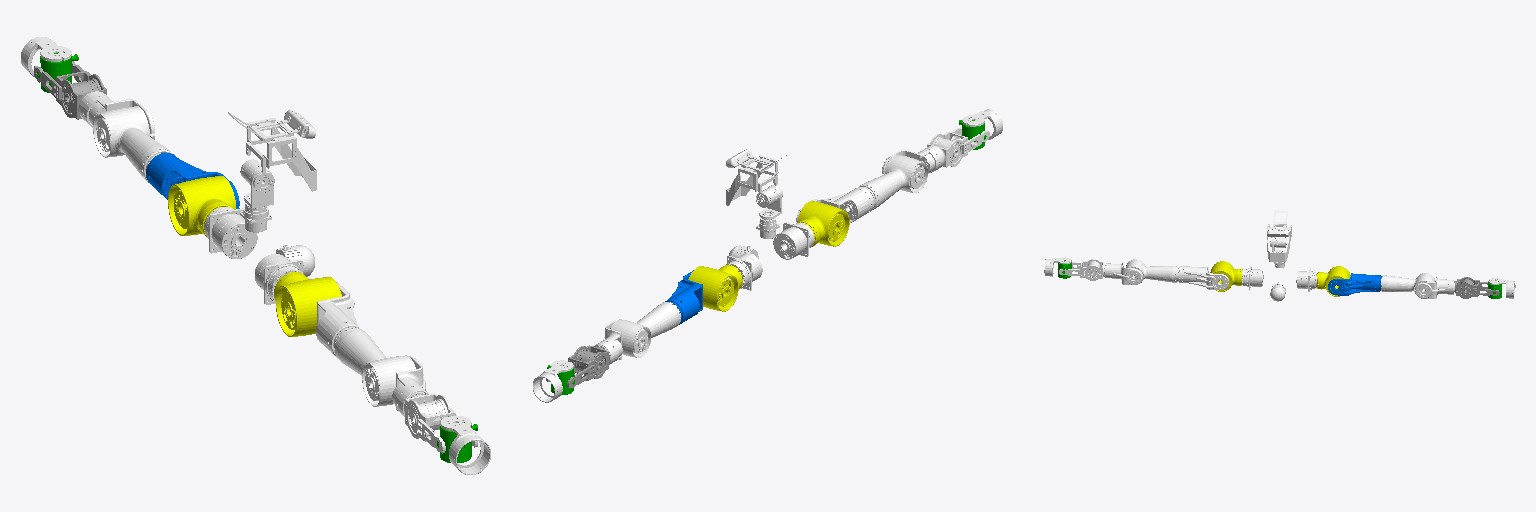
--- What the picture shows (computed from the rendered views, not written in the file) ---
3 views of the same robot in one strip: view 1: azimuth 30°, elevation 25°; view 2: azimuth 150°, elevation 25°; view 3: azimuth 270°, elevation 25° (orthographic).
Model miracle with 27 links and 26 joints (20 revolute, 6 fixed), rooted at base_link, posed all joints at 0.
Visible links, largest first — view 1: right_arm_link3, head_link2, left_arm_link3, right_arm_link1, left_arm_link1, left_arm_mount_link, right_arm_link5, left_arm_link5, left_arm_link2, right_arm_link2, right_arm_link7, right_arm_mount_link (+8 smaller); view 2: left_arm_link3, right_arm_link3, left_arm_link1, right_arm_link1, head_link2, left_arm_link5, right_arm_link5, right_arm_mount_link, right_arm_link2, left_arm_link2, left_arm_link7, left_arm_mount_link (+4 smaller); view 3: left_arm_link2, right_arm_link2, right_arm_link3, left_arm_link3, head_link2, right_arm_link5, left_arm_link5, left_arm_link4, right_arm_link4.
Link boxes in pixels (<box>): right_arm_link3: <box>334,327,415,406</box>; head_link2: <box>228,110,316,192</box>; left_arm_link3: <box>93,106,172,182</box>; right_arm_link1: <box>274,272,341,336</box>; left_arm_link1: <box>168,176,235,236</box>; left_arm_mount_link: <box>204,207,257,258</box>; right_arm_link5: <box>405,393,477,453</box>; left_arm_link5: <box>34,61,106,119</box>; left_arm_link2: <box>146,153,239,208</box>; right_arm_link2: <box>316,282,360,355</box>; right_arm_link7: <box>440,416,490,474</box>; right_arm_mount_link: <box>255,254,303,304</box>; left_arm_link3: <box>610,302,680,357</box>; right_arm_link3: <box>859,155,927,209</box>; left_arm_link1: <box>688,265,742,311</box>; right_arm_link1: <box>797,201,849,246</box>; head_link2: <box>726,149,787,205</box>; left_arm_link5: <box>546,345,608,388</box>; right_arm_link5: <box>927,126,989,167</box>; right_arm_mount_link: <box>773,222,814,259</box>; right_arm_link2: <box>796,187,874,222</box>; left_arm_link2: <box>665,270,702,324</box>; left_arm_link7: <box>533,360,573,402</box>; left_arm_mount_link: <box>726,253,762,290</box>; left_arm_link2: <box>1328,273,1381,295</box>; right_arm_link2: <box>1178,266,1228,289</box>; right_arm_link3: <box>1126,259,1178,282</box>; left_arm_link3: <box>1381,273,1435,293</box>; head_link2: <box>1267,210,1291,261</box>; right_arm_link5: <box>1059,259,1104,280</box>; left_arm_link5: <box>1455,277,1499,298</box>; left_arm_link4: <box>1415,277,1454,298</box>; right_arm_link4: <box>1104,262,1142,284</box>.
Bounding box of the posed robot: 0.2592 × 1.89 × 0.3395 m (x, y, z).
Meshes: 27 distinct files referenced, 20 mesh visuals loaded (20 binary STL); not drawn: 7 (reference not matched to a file when rendering).

robot.urdf — miracle:
<?xml version="1.0" encoding="utf-8"?>
<!-- This URDF was automatically created by SolidWorks to URDF Exporter! Originally created by Stephen Brawner ([email redacted]) 
     Commit Version: 1.6.0-4-g7f85cfe  Build Version: 1.6.7995.38578
     For more information, please see http://wiki.ros.org/sw_urdf_exporter -->
<robot
  name="miracle">
  <link
    name="base_link">
    <inertial>
      <origin
        xyz="0.0606 0.017021 0.12785"
        rpy="0 0 0" />
      <mass
        value="17.276" />
      <inertia
        ixx="0.040792"
        ixy="4.1423E-05"
        ixz="8.1011E-05"
        iyy="0.041082"
        iyz="-0.00028759"
        izz="0.038316" />
    </inertial>
    <visual>
      <origin
        xyz="0 0 0"
        rpy="0 0 0" />
      <geometry>
        <mesh
          filename="package://miracle/meshes/base_link.STL" />
      </geometry>
      <material
        name="">
        <color
          rgba="0.59216 0.66667 0.68235 1" />
      </material>
    </visual>
    <collision>
      <origin
        xyz="0 0 0"
        rpy="0 0 0" />
      <geometry>
        <mesh
          filename="package://miracle/meshes/base_link.STL" />
      </geometry>
    </collision>
  </link>
  <link
    name="leg_link1">
    <inertial>
      <origin
        xyz="0.373410461941086 0.00317203238155983 0.00872400877544002"
        rpy="0 0 0" />
      <mass
        value="22.0247976721526" />
      <inertia
        ixx="0.0754255607395009"
        ixy="3.92959637740102E-05"
        ixz="-0.000155769379066117"
        iyy="0.319317431793346"
        iyz="-0.000625399106227243"
        izz="0.315210283487775" />
    </inertial>
    <visual>
      <origin
        xyz="0 0 0"
        rpy="0 0 0" />
      <geometry>
        <mesh
          filename="package://miracle/meshes/leg_link1.STL" />
      </geometry>
      <material
        name="">
        <color
          rgba="0.698039215686274 0.698039215686274 0.698039215686274 1" />
      </material>
    </visual>
    <collision>
      <origin
        xyz="0 0 0"
        rpy="0 0 0" />
      <geometry>
        <mesh
          filename="package://miracle/meshes/leg_link1.STL" />
      </geometry>
    </collision>
  </link>
  <joint
    name="leg_joint1"
    type="revolute">
    <origin
      xyz="0.067499 0 0.136"
      rpy="1.5708 -0.68983 3.1416" />
    <parent
      link="base_link" />
    <child
      link="leg_link1" />
    <axis
      xyz="0 0 1" />
    <limit
      lower="-1.57"
      upper="1.57"
      effort="0"
      velocity="0" />
  </joint>
  <link
    name="leg_link2">
    <inertial>
      <origin
        xyz="0.30543883910427 0.000587194720700124 -0.0340371176015127"
        rpy="0 0 0" />
      <mass
        value="8.95607382191874" />
      <inertia
        ixx="0.0117400044567802"
        ixy="-0.000628362265764557"
        ixz="6.42351126552253E-06"
        iyy="0.102142519439841"
        iyz="1.29380270111411E-06"
        izz="0.109117913938011" />
    </inertial>
    <visual>
      <origin
        xyz="0 0 0"
        rpy="0 0 0" />
      <geometry>
        <mesh
          filename="package://miracle/meshes/leg_link2.STL" />
      </geometry>
      <material
        name="">
        <color
          rgba="0.698039215686274 0.698039215686274 0.698039215686274 1" />
      </material>
    </visual>
    <collision>
      <origin
        xyz="0 0 0"
        rpy="0 0 0" />
      <geometry>
        <mesh
          filename="package://miracle/meshes/leg_link2.STL" />
      </geometry>
    </collision>
  </link>
  <joint
    name="leg_joint2"
    type="revolute">
    <origin
      xyz="0.45 0 0"
      rpy="-3.1416 0 1.9784" />
    <parent
      link="leg_link1" />
    <child
      link="leg_link2" />
    <axis
      xyz="0 0 1" />
    <limit
      lower="-1.57"
      upper="1.57"
      effort="0"
      velocity="0" />
  </joint>
  <link
    name="leg_link3">
    <inertial>
      <origin
        xyz="0.000233497639811953 -0.0317006200287735 -0.000226107345642754"
        rpy="0 0 0" />
      <mass
        value="2.74166971276735" />
      <inertia
        ixx="0.0131132101979025"
        ixy="2.11295636664785E-05"
        ixz="3.48307228512514E-08"
        iyy="0.0116005108146718"
        iyz="0.000187364414561459"
        izz="0.0129055936481148" />
    </inertial>
    <visual>
      <origin
        xyz="0 0 0"
        rpy="0 0 0" />
      <geometry>
        <mesh
          filename="package://miracle/meshes/leg_link3.STL" />
      </geometry>
      <material
        name="">
        <color
          rgba="0.698039215686274 0.698039215686274 0.698039215686274 1" />
      </material>
    </visual>
    <collision>
      <origin
        xyz="0 0 0"
        rpy="0 0 0" />
      <geometry>
        <mesh
          filename="package://miracle/meshes/leg_link3.STL" />
      </geometry>
    </collision>
  </link>
  <joint
    name="leg_joint3"
    type="revolute">
    <origin
      xyz="0.39 0 0"
      rpy="3.1416 0 -0.4734" />
    <parent
      link="leg_link2" />
    <child
      link="leg_link3" />
    <axis
      xyz="0 0 1" />
    <limit
      lower="-1.57"
      upper="1.57"
      effort="0"
      velocity="0" />
  </joint>
  <link
    name="leg_link4">
    <inertial>
      <origin
        xyz="-0.015153 -5.8636E-05 0.18105"
        rpy="0 0 0" />
      <mass
        value="1.4044" />
      <inertia
        ixx="0.0058458"
        ixy="6.1445E-06"
        ixz="-5.6825E-06"
        iyy="0.0045625"
        iyz="4.2629E-06"
        izz="0.0026933" />
    </inertial>
    <visual>
      <origin
        xyz="0 0 0"
        rpy="0 0 0" />
      <geometry>
        <mesh
          filename="package://miracle/meshes/leg_link4.STL" />
      </geometry>
      <material
        name="">
        <color
          rgba="1 1 1 1" />
      </material>
    </visual>
    <collision>
      <origin
        xyz="0 0 0"
        rpy="0 0 0" />
      <geometry>
        <mesh
          filename="package://miracle/meshes/leg_link4.STL" />
      </geometry>
    </collision>
  </link>
  <joint
    name="leg_joint4"
    type="revolute">
    <origin
      xyz="0 -0.1395 0"
      rpy="1.5708 0.10031 0" />
    <parent
      link="leg_link3" />
    <child
      link="leg_link4" />
    <axis
      xyz="0 0 1" />
    <limit
      lower="-1.57"
      upper="1.57"
      effort="0"
      velocity="0" />
  </joint>
  <link
    name="lidra2_link">
    <inertial>
      <origin
        xyz="-0.00019018 6.2925E-07 0.027552"
        rpy="0 0 0" />
      <mass
        value="0.15063" />
      <inertia
        ixx="4.5255E-05"
        ixy="-2.1506E-10"
        ixz="1.6912E-08"
        iyy="4.5069E-05"
        iyz="-1.7116E-09"
        izz="6.1719E-05" />
    </inertial>
    <visual>
      <origin
        xyz="0 0 0"
        rpy="0 0 0" />
      <geometry>
        <mesh
          filename="package://miracle/meshes/lidra2_link.STL" />
      </geometry>
      <material
        name="">
        <color
          rgba="1 1 1 1" />
      </material>
    </visual>
    <collision>
      <origin
        xyz="0 0 0"
        rpy="0 0 0" />
      <geometry>
        <mesh
          filename="package://miracle/meshes/lidra2_link.STL" />
      </geometry>
    </collision>
  </link>
  <joint
    name="lidra2_joint"
    type="fixed">
    <origin
      xyz="0.0501 0 0.246"
      rpy="1.5708 1.5645 1.5708" />
    <parent
      link="leg_link4" />
    <child
      link="lidra2_link" />
    <axis
      xyz="0 0 0" />
  </joint>
  <link
    name="head_mount_link">
    <inertial>
      <origin
        xyz="1.738E-05 3.1615E-06 -0.0089392"
        rpy="0 0 0" />
      <mass
        value="0.0067056" />
      <inertia
        ixx="1.8089E-06"
        ixy="-2.0323E-13"
        ixz="1.972E-13"
        iyy="1.8089E-06"
        iyz="2.3126E-13"
        izz="3.3607E-06" />
    </inertial>
    <visual>
      <origin
        xyz="0 0 0"
        rpy="0 0 0" />
      <geometry>
        <mesh
          filename="package://miracle/meshes/head_mount_link.STL" />
      </geometry>
      <material
        name="">
        <color
          rgba="1 1 1 1" />
      </material>
    </visual>
    <collision>
      <origin
        xyz="0 0 0"
        rpy="0 0 0" />
      <geometry>
        <mesh
          filename="package://miracle/meshes/head_mount_link.STL" />
      </geometry>
    </collision>
  </link>
  <joint
    name="head_mount_joint"
    type="fixed">
    <origin
      xyz="0 0 0.366"
      rpy="0 0 0" />
    <parent
      link="leg_link4" />
    <child
      link="head_mount_link" />
    <axis
      xyz="0 0 0" />
  </joint>
  <link
    name="head_link1">
    <inertial>
      <origin
        xyz="-1.21451846257781E-05 -0.0183691160814371 0.0139880463062609"
        rpy="0 0 0" />
      <mass
        value="0.0179334054057747" />
      <inertia
        ixx="8.68704551396729E-06"
        ixy="2.32867411072203E-13"
        ixz="-9.8700049319966E-14"
        iyy="8.27654965608288E-06"
        iyz="-2.04020319007512E-06"
        izz="6.42008283919176E-06" />
    </inertial>
    <visual>
      <origin
        xyz="0 0 0"
        rpy="0 0 0" />
      <geometry>
        <mesh
          filename="package://miracle/meshes/head_link1.STL" />
      </geometry>
      <material
        name="">
        <color
          rgba="1 1 1 1" />
      </material>
    </visual>
    <collision>
      <origin
        xyz="0 0 0"
        rpy="0 0 0" />
      <geometry>
        <mesh
          filename="package://miracle/meshes/head_link1.STL" />
      </geometry>
    </collision>
  </link>
  <joint
    name="head_joint1"
    type="revolute">
    <origin
      xyz="0 0 0.02"
      rpy="0 0 0" />
    <parent
      link="head_mount_link" />
    <child
      link="head_link1" />
    <axis
      xyz="0 0 1" />
    <limit
      lower="-1.57"
      upper="1.57"
      effort="0"
      velocity="0" />
  </joint>
  <link
    name="head_link2">
    <inertial>
      <origin
        xyz="0.0844948741379612 -0.0804596463532488 0.0319526055216792"
        rpy="0 0 0" />
      <mass
        value="1.31159529288958" />
      <inertia
        ixx="0.000798469616246155"
        ixy="7.35786015458707E-06"
        ixz="-1.0306933130501E-05"
        iyy="0.000803801129309105"
        iyz="-4.7675771129424E-06"
        izz="0.000138174346221395" />
    </inertial>
    <visual>
      <origin
        xyz="0 0 0"
        rpy="0 0 0" />
      <geometry>
        <mesh
          filename="package://miracle/meshes/head_link2.STL" />
      </geometry>
      <material
        name="">
        <color
          rgba="1 1 1 1" />
      </material>
    </visual>
    <collision>
      <origin
        xyz="0 0 0"
        rpy="0 0 0" />
      <geometry>
        <mesh
          filename="package://miracle/meshes/head_link2.STL" />
      </geometry>
    </collision>
  </link>
  <joint
    name="head_joint2"
    type="revolute">
    <origin
      xyz="0 -0.031 0.048"
      rpy="-1.5708 0 0" />
    <parent
      link="head_link1" />
    <child
      link="head_link2" />
    <axis
      xyz="0 0 1" />
    <limit
      lower="-1.57"
      upper="1.57"
      effort="0"
      velocity="0" />
  </joint>
  <link
    name="left_arm_mount_link">
    <inertial>
      <origin
        xyz="-0.000103092898383172 -3.09936444287118E-08 -0.00775501666918563"
        rpy="0 0 0" />
      <mass
        value="0.0120043370449637" />
      <inertia
        ixx="9.35192695532425E-06"
        ixy="1.04035705710706E-13"
        ixz="1.98733290697677E-09"
        iyy="9.28412817387126E-06"
        iyz="-9.62614880749074E-13"
        izz="1.83975367599659E-05" />
    </inertial>
    <visual>
      <origin
        xyz="0 0 0"
        rpy="0 0 0" />
      <geometry>
        <mesh
          filename="package://miracle/meshes/left_arm_mount_link.STL" />
      </geometry>
      <material
        name="">
        <color
          rgba="1 1 1 1" />
      </material>
    </visual>
    <collision>
      <origin
        xyz="0 0 0"
        rpy="0 0 0" />
      <geometry>
        <mesh
          filename="package://miracle/meshes/left_arm_mount_link.STL" />
      </geometry>
    </collision>
  </link>
  <joint
    name="left_arm_mount_joint"
    type="fixed">
    <origin
      xyz="-0.00025544 0.1295 0.273"
      rpy="1.5708 0 -3.1416" />
    <parent
      link="leg_link4" />
    <child
      link="left_arm_mount_link" />
    <axis
      xyz="0 0 0" />
  </joint>
  <link
    name="left_arm_link1">
    <inertial>
      <origin
        xyz="-0.00451320668760635 -4.84220839980232E-07 0.068453732902452"
        rpy="0 0 0" />
      <mass
        value="0.164576053302054" />
      <inertia
        ixx="0.00035768230406796"
        ixy="-4.33378549379354E-10"
        ixz="-5.31763582039654E-06"
        iyy="0.000313384891000046"
        iyz="5.22511458440378E-10"
        izz="0.000263231919003301" />
    </inertial>
    <visual>
      <origin
        xyz="0 0 0"
        rpy="0 0 0" />
      <geometry>
        <mesh
          filename="package://miracle/meshes/left_arm_link1.STL" />
      </geometry>
      <material
        name="">
        <color
          rgba="0.968627450980392 1 0 1" />
      </material>
    </visual>
    <collision>
      <origin
        xyz="0 0 0"
        rpy="0 0 0" />
      <geometry>
        <mesh
          filename="package://miracle/meshes/left_arm_link1.STL" />
      </geometry>
    </collision>
  </link>
  <joint
    name="left_arm_joint1"
    type="revolute">
    <origin
      xyz="-0.00025544 0 0.0215"
      rpy="0 0 0" />
    <parent
      link="left_arm_mount_link" />
    <child
      link="left_arm_link1" />
    <axis
      xyz="0 0 1" />
    <limit
      lower="-1.57"
      upper="1.57"
      effort="0"
      velocity="0" />
  </joint>
  <link
    name="left_arm_link2">
    <inertial>
      <origin
        xyz="-1.32736194258243E-08 0.0729261615545976 -0.0242860265828597"
        rpy="0 0 0" />
      <mass
        value="0.153610763556113" />
      <inertia
        ixx="0.000523400101333386"
        ixy="9.63707927596802E-11"
        ixz="-8.88098525786212E-11"
        iyy="0.000181612212796772"
        iyz="-0.000152838418381354"
        izz="0.000482627255057858" />
    </inertial>
    <visual>
      <origin
        xyz="0 0 0"
        rpy="0 0 0" />
      <geometry>
        <mesh
          filename="package://miracle/meshes/left_arm_link2.STL" />
      </geometry>
      <material
        name="">
        <color
          rgba="0 0.501960784313725 1 1" />
      </material>
    </visual>
    <collision>
      <origin
        xyz="0 0 0"
        rpy="0 0 0" />
      <geometry>
        <mesh
          filename="package://miracle/meshes/left_arm_link2.STL" />
      </geometry>
    </collision>
  </link>
  <joint
    name="left_arm_joint2"
    type="revolute">
    <origin
      xyz="-0.051 0 0.083"
      rpy="1.5708 0.0087535 -1.5708" />
    <parent
      link="left_arm_link1" />
    <child
      link="left_arm_link2" />
    <axis
      xyz="0 0 1" />
    <limit
      lower="-1.57"
      upper="1.57"
      effort="0"
      velocity="0" />
  </joint>
  <link
    name="left_arm_link3">
    <inertial>
      <origin
        xyz="2.01632285201647E-07 0.00214120607233292 0.0947924947353457"
        rpy="0 0 0" />
      <mass
        value="0.186587301067739" />
      <inertia
        ixx="0.000773698879079249"
        ixy="-1.9261050013891E-10"
        ixz="5.7469629059933E-10"
        iyy="0.000790841800324136"
        iyz="2.77127491977947E-05"
        izz="0.000180064935294716" />
    </inertial>
    <visual>
      <origin
        xyz="0 0 0"
        rpy="0 0 0" />
      <geometry>
        <mesh
          filename="package://miracle/meshes/left_arm_link3.STL" />
      </geometry>
      <material
        name="">
        <color
          rgba="1 1 1 1" />
      </material>
    </visual>
    <collision>
      <origin
        xyz="0 0 0"
        rpy="0 0 0" />
      <geometry>
        <mesh
          filename="package://miracle/meshes/left_arm_link3.STL" />
      </geometry>
    </collision>
  </link>
  <joint
    name="left_arm_joint3"
    type="revolute">
    <origin
      xyz="0 0.1754 -0.051"
      rpy="1.5708 0 -3.1416" />
    <parent
      link="left_arm_link2" />
    <child
      link="left_arm_link3" />
    <axis
      xyz="0 0 1" />
    <limit
      lower="-1.57"
      upper="1.57"
      effort="0"
      velocity="0" />
  </joint>
  <link
    name="left_arm_link4">
    <inertial>
      <origin
        xyz="-3.59282905924019E-05 0.0462202717096162 -0.0211544021787333"
        rpy="0 0 0" />
      <mass
        value="0.0802828063968529" />
      <inertia
        ixx="0.00016287611612671"
        ixy="9.06993953713702E-08"
        ixz="-3.8108714701397E-08"
        iyy="7.56836891245293E-05"
        iyz="-5.27088065070728E-05"
        izz="0.000157942400170937" />
    </inertial>
    <visual>
      <origin
        xyz="0 0 0"
        rpy="0 0 0" />
      <geometry>
        <mesh
          filename="package://miracle/meshes/left_arm_link4.STL" />
      </geometry>
      <material
        name="">
        <color
          rgba="1 1 1 1" />
      </material>
    </visual>
    <collision>
      <origin
        xyz="0 0 0"
        rpy="0 0 0" />
      <geometry>
        <mesh
          filename="package://miracle/meshes/left_arm_link4.STL" />
      </geometry>
    </collision>
  </link>
  <joint
    name="left_arm_joint4"
    type="revolute">
    <origin
      xyz="0 0.0461 0.175"
      rpy="1.5708 -0.0014224 -3.1416" />
    <parent
      link="left_arm_link3" />
    <child
      link="left_arm_link4" />
    <axis
      xyz="0 0 1" />
    <limit
      lower="-1.57"
      upper="1.57"
      effort="0"
      velocity="0" />
  </joint>
  <link
    name="left_arm_link5">
    <inertial>
      <origin
        xyz="-2.7270873337315E-09 0.00178441972763155 0.0724996930380202"
        rpy="0 0 0" />
      <mass
        value="0.198915258543434" />
      <inertia
        ixx="0.000299393311774052"
        ixy="-4.61118970352393E-11"
        ixz="-6.65845091851043E-12"
        iyy="0.000269443645755274"
        iyz="-5.8116073433651E-07"
        izz="0.000121358911581825" />
    </inertial>
    <visual>
      <origin
        xyz="0 0 0"
        rpy="0 0 0" />
      <geometry>
        <mesh
          filename="package://miracle/meshes/left_arm_link5.STL" />
      </geometry>
      <material
        name="">
        <color
          rgba="0.698039215686274 0.698039215686274 0.698039215686274 1" />
      </material>
    </visual>
    <collision>
      <origin
        xyz="0 0 0"
        rpy="0 0 0" />
      <geometry>
        <mesh
          filename="package://miracle/meshes/left_arm_link5.STL" />
      </geometry>
    </collision>
  </link>
  <joint
    name="left_arm_joint5"
    type="revolute">
    <origin
      xyz="0 0.126 -0.0461"
      rpy="1.5708 0.003496 3.1416" />
    <parent
      link="left_arm_link4" />
    <child
      link="left_arm_link5" />
    <axis
      xyz="0 0 1" />
    <limit
      lower="-1.57"
      upper="1.57"
      effort="0"
      velocity="0" />
  </joint>
  <link
    name="left_arm_link6">
    <inertial>
      <origin
        xyz="0.0125246612969302 0.00690126387341727 0.0285485082750137"
        rpy="0 0 0" />
      <mass
        value="0.0940462610721578" />
      <inertia
        ixx="6.05163698539327E-05"
        ixy="6.46044058081461E-07"
        ixz="-3.89165918177327E-09"
        iyy="6.60362570287699E-05"
        iyz="-8.00666734421871E-07"
        izz="6.74459783980875E-05" />
    </inertial>
    <visual>
      <origin
        xyz="0 0 0"
        rpy="0 0 0" />
      <geometry>
        <mesh
          filename="package://miracle/meshes/left_arm_link6.STL" />
      </geometry>
      <material
        name="">
        <color
          rgba="0 0.752941176470588 0 1" />
      </material>
    </visual>
    <collision>
      <origin
        xyz="0 0 0"
        rpy="0 0 0" />
      <geometry>
        <mesh
          filename="package://miracle/meshes/left_arm_link6.STL" />
      </geometry>
    </collision>
  </link>
  <joint
    name="left_arm_joint6"
    type="revolute">
    <origin
      xyz="0 0.035 0.158"
      rpy="1.5708 1.5708 0" />
    <parent
      link="left_arm_link5" />
    <child
      link="left_arm_link6" />
    <axis
      xyz="0 0 1" />
    <limit
      lower="-1.57"
      upper="1.57"
      effort="0"
      velocity="0" />
  </joint>
  <link
    name="left_arm_link7">
    <inertial>
      <origin
        xyz="-0.038731802471962 -9.91764670388307E-10 0.0186729913106849"
        rpy="0 0 0" />
      <mass
        value="0.038847061584658" />
      <inertia
        ixx="3.84415402297172E-05"
        ixy="1.15898509786435E-11"
        ixz="-1.57377384631404E-05"
        iyy="5.58653803458576E-05"
        iyz="-1.30825443856742E-11"
        izz="4.79748042655481E-05" />
    </inertial>
    <visual>
      <origin
        xyz="0 0 0"
        rpy="0 0 0" />
      <geometry>
        <mesh
          filename="package://miracle/meshes/left_arm_link7.STL" />
      </geometry>
      <material
        name="">
        <color
          rgba="1 1 1 1" />
      </material>
    </visual>
    <collision>
      <origin
        xyz="0 0 0"
        rpy="0 0 0" />
      <geometry>
        <mesh
          filename="package://miracle/meshes/left_arm_link7.STL" />
      </geometry>
    </collision>
  </link>
  <joint
    name="left_arm_joint7"
    type="revolute">
    <origin
      xyz="0.00012012 0.0345 0.035"
      rpy="1.5708 0.0010493 -0.0034818" />
    <parent
      link="left_arm_link6" />
    <child
      link="left_arm_link7" />
    <axis
      xyz="0 0 1" />
    <limit
      lower="-1.57"
      upper="1.57"
      effort="0"
      velocity="0" />
  </joint>
  <link
    name="left_hand_mount_link">
    <inertial>
      <origin
        xyz="-0.597206763690074 -0.121051453967766 -0.914455490677455"
        rpy="0 0 0" />
      <mass
        value="37.4986548939498" />
      <inertia
        ixx="1.73921601792546"
        ixy="0.0365113558449346"
        ixz="-0.0402410989125227"
        iyy="3.39089693160912"
        iyz="0.0916840266587484"
        izz="3.5581985115674" />
    </inertial>
    <visual>
      <origin
        xyz="0 0 0"
        rpy="0 0 0" />
      <geometry>
        <mesh
          filename="package://miracle/meshes/left_hand_mount_link.STL" />
      </geometry>
      <material
        name="">
        <color
          rgba="1 1 1 1" />
      </material>
    </visual>
    <collision>
      <origin
        xyz="0 0 0"
        rpy="0 0 0" />
      <geometry>
        <mesh
          filename="package://miracle/meshes/left_hand_mount_link.STL" />
      </geometry>
    </collision>
  </link>
  <joint
    name="left_hand_mount_joint"
    type="fixed">
    <origin
      xyz="-0.05 0 0.0335"
      rpy="0 1.5708 3.1416" /> <!--"0 1.5708 -3.0245"-->
    <parent
      link="left_arm_link7" />
    <child
      link="left_hand_mount_link" />
    <axis
      xyz="0 0 0" />
    <limit
      lower="-1.57"
      upper="1.57"
      effort="0"
      velocity="0" />
  </joint>
  <link
    name="right_arm_mount_link">
    <inertial>
      <origin
        xyz="-0.000103092984707231 -3.07796441667563E-08 -0.00775501663634681"
        rpy="0 0 0" />
      <mass
        value="0.0120043371384071" />
      <inertia
        ixx="9.35192696160257E-06"
        ixy="1.006755150099E-13"
        ixz="1.98732925185088E-09"
        iyy="9.28412821128432E-06"
        iyz="-9.52266254669673E-13"
        izz="1.83975368002467E-05" />
    </inertial>
    <visual>
      <origin
        xyz="0 0 0"
        rpy="0 0 0" />
      <geometry>
        <mesh
          filename="package://miracle/meshes/right_arm_mount_link.STL" />
      </geometry>
      <material
        name="">
        <color
          rgba="1 1 1 1" />
      </material>
    </visual>
    <collision>
      <origin
        xyz="0 0 0"
        rpy="0 0 0" />
      <geometry>
        <mesh
          filename="package://miracle/meshes/right_arm_mount_link.STL" />
      </geometry>
    </collision>
  </link>
  <joint
    name="right_arm_mount_joint"
    type="fixed">
    <origin
      xyz="-0.00025544 -0.1295 0.273"
      rpy="-1.5708 0 3.1416" />
    <parent
      link="leg_link4" />
    <child
      link="right_arm_mount_link" />
    <axis
      xyz="0 0 0" />
  </joint>
  <link
    name="right_arm_link1">
    <inertial>
      <origin
        xyz="-0.00451319096291214 -6.17681515491242E-07 0.0684537977351237"
        rpy="0 0 0" />
      <mass
        value="0.164575385797922" />
      <inertia
        ixx="0.000357682299311942"
        ixy="-4.07284784893913E-10"
        ixz="-5.3177371285037E-06"
        iyy="0.000313384957106025"
        iyz="5.25734307275388E-10"
        izz="0.000263231940082954" />
    </inertial>
    <visual>
      <origin
        xyz="0 0 0"
        rpy="0 0 0" />
      <geometry>
        <mesh
          filename="package://miracle/meshes/right_arm_link1.STL" />
      </geometry>
      <material
        name="">
        <color
          rgba="0.968627450980392 1 0 1" />
      </material>
    </visual>
    <collision>
      <origin
        xyz="0 0 0"
        rpy="0 0 0" />
      <geometry>
        <mesh
          filename="package://miracle/meshes/right_arm_link1.STL" />
      </geometry>
    </collision>
  </link>
  <joint
    name="right_arm_joint1"
    type="revolute">
    <origin
      xyz="-0.00025544 0 0.0215"
      rpy="0 0 0" />
    <parent
      link="right_arm_mount_link" />
    <child
      link="right_arm_link1" />
    <axis
      xyz="0 0 1" />
    <limit
      lower="-1.57"
      upper="1.57"
      effort="0"
      velocity="0" />
  </joint>
  <link
    name="right_arm_link2">
    <inertial>
      <origin
        xyz="1.64418449966064E-08 -0.0729261618625973 -0.0242860213771419"
        rpy="0 0 0" />
      <mass
        value="0.153610761818557" />
      <inertia
        ixx="0.000523400125659722"
        ixy="8.76557734845203E-11"
        ixz="8.69720271142893E-11"
        iyy="0.000181612185734675"
        iyz="0.000152838390676076"
        izz="0.000482627297245249" />
    </inertial>
    <visual>
      <origin
        xyz="0 0 0"
        rpy="0 0 0" />
      <geometry>
        <mesh
          filename="package://miracle/meshes/right_arm_link2.STL" />
      </geometry>
      <material
        name="">
        <color
          rgba="1 1 1 1" />
      </material>
    </visual>
    <collision>
      <origin
        xyz="0 0 0"
        rpy="0 0 0" />
      <geometry>
        <mesh
          filename="package://miracle/meshes/right_arm_link2.STL" />
      </geometry>
    </collision>
  </link>
  <joint
    name="right_arm_joint2"
    type="revolute">
    <origin
      xyz="-0.051 0 0.083"
      rpy="-1.5708 -0.0087535 1.5708" />
    <parent
      link="right_arm_link1" />
    <child
      link="right_arm_link2" />
    <axis
      xyz="0 0 1" />
    <limit
      lower="-1.57"
      upper="1.57"
      effort="0"
      velocity="0" />
  </joint>
  <link
    name="right_arm_link3">
    <inertial>
      <origin
        xyz="-1.8310729177351E-07 -0.00214122998062516 0.0947924894787023"
        rpy="0 0 0" />
      <mass
        value="0.186587236035747" />
      <inertia
        ixx="0.000773698828581519"
        ixy="-2.29777227693661E-10"
        ixz="-5.27223762102277E-10"
        iyy="0.000790841756686581"
        iyz="-2.77127314416334E-05"
        izz="0.000180064919813139" />
    </inertial>
    <visual>
      <origin
        xyz="0 0 0"
        rpy="0 0 0" />
      <geometry>
        <mesh
          filename="package://miracle/meshes/right_arm_link3.STL" />
      </geometry>
      <material
        name="">
        <color
          rgba="1 1 1 1" />
      </material>
    </visual>
    <collision>
      <origin
        xyz="0 0 0"
        rpy="0 0 0" />
      <geometry>
        <mesh
          filename="package://miracle/meshes/right_arm_link3.STL" />
      </geometry>
    </collision>
  </link>
  <joint
    name="right_arm_joint3"
    type="revolute">
    <origin
      xyz="0 -0.1754 -0.051"
      rpy="-1.5708 0 3.1416" />
    <parent
      link="right_arm_link2" />
    <child
      link="right_arm_link3" />
    <axis
      xyz="0 0 1" />
    <limit
      lower="-1.57"
      upper="1.57"
      effort="0"
      velocity="0" />
  </joint>
  <link
    name="right_arm_link4">
    <inertial>
      <origin
        xyz="3.59288799304247E-05 -0.0462202786634345 -0.0211543995626309"
        rpy="0 0 0" />
      <mass
        value="0.0802827982292577" />
      <inertia
        ixx="0.000162876114417333"
        ixy="9.06986488362208E-08"
        ixz="3.81081288544873E-08"
        iyy="7.56836702513835E-05"
        iyz="5.27088009892671E-05"
        izz="0.000157942403511433" />
    </inertial>
    <visual>
      <origin
        xyz="0 0 0"
        rpy="0 0 0" />
      <geometry>
        <mesh
          filename="package://miracle/meshes/right_arm_link4.STL" />
      </geometry>
      <material
        name="">
        <color
          rgba="1 1 1 1" />
      </material>
    </visual>
    <collision>
      <origin
        xyz="0 0 0"
        rpy="0 0 0" />
      <geometry>
        <mesh
          filename="package://miracle/meshes/right_arm_link4.STL" />
      </geometry>
    </collision>
  </link>
  <joint
    name="right_arm_joint4"
    type="revolute">
    <origin
      xyz="0 -0.0461 0.175"
      rpy="-1.5708 0.0014224 -3.1416" />
    <parent
      link="right_arm_link3" />
    <child
      link="right_arm_link4" />
    <axis
      xyz="0 0 1" />
    <limit
      lower="-1.57"
      upper="1.57"
      effort="0"
      velocity="0" />
  </joint>
  <link
    name="right_arm_link5">
    <inertial>
      <origin
        xyz="2.89274115772287E-09 -0.00147229926939896 0.0728049117262878"
        rpy="0 0 0" />
      <mass
        value="0.200801025679017" />
      <inertia
        ixx="0.000299450844075757"
        ixy="-4.64767942618736E-11"
        ixz="6.6798032849908E-12"
        iyy="0.00026947983395384"
        iyz="5.81153690415166E-07"
        izz="0.000121416445800259" />
    </inertial>
    <visual>
      <origin
        xyz="0 0 0"
        rpy="0 0 0" />
      <geometry>
        <mesh
          filename="package://miracle/meshes/right_arm_link5.STL" />
      </geometry>
      <material
        name="">
        <color
          rgba="1 1 1 1" />
      </material>
    </visual>
    <collision>
      <origin
        xyz="0 0 0"
        rpy="0 0 0" />
      <geometry>
        <mesh
          filename="package://miracle/meshes/right_arm_link5.STL" />
      </geometry>
    </collision>
  </link>
  <joint
    name="right_arm_joint5"
    type="revolute">
    <origin
      xyz="0 -0.126000000000001 -0.0461000000000018"
      rpy="-1.57079632679489 -0.00349618935497161 -3.14159265358958" />
    <parent
      link="right_arm_link4" />
    <child
      link="right_arm_link5" />
    <axis
      xyz="0 0 1" />
    <limit
      lower="-1.57"
      upper="1.57"
      effort="0"
      velocity="0" />
  </joint>
  <link
    name="right_arm_link6">
    <inertial>
      <origin
        xyz="-0.0124848532591197 0.00690133646225344 0.0285465519664514"
        rpy="0 0 0" />
      <mass
        value="0.0940462589496799" />
      <inertia
        ixx="6.05164189086139E-05"
        ixy="-6.31572335379386E-07"
        ixz="-1.26482556330156E-09"
        iyy="6.60362060269192E-05"
        iyz="-8.00675211337939E-07"
        izz="6.74459784286085E-05" />
    </inertial>
    <visual>
      <origin
        xyz="0 0 0"
        rpy="0 0 0" />
      <geometry>
        <mesh
          filename="package://miracle/meshes/right_arm_link6.STL" />
      </geometry>
      <material
        name="">
        <color
          rgba="0 0.752941176470588 0 1" />
      </material>
    </visual>
    <collision>
      <origin
        xyz="0 0 0"
        rpy="0 0 0" />
      <geometry>
        <mesh
          filename="package://miracle/meshes/right_arm_link6.STL" />
      </geometry>
    </collision>
  </link>
  <joint
    name="right_arm_joint6"
    type="revolute">
    <origin
      xyz="0 -0.035 0.158"
      rpy="1.5708 -1.5708 3.1416" />
    <parent
      link="right_arm_link5" />
    <child
      link="right_arm_link6" />
    <axis
      xyz="0 0 1" />
    <limit
      lower="-1.57"
      upper="1.57"
      effort="0"
      velocity="0" />
  </joint>
  <link
    name="right_arm_link7">
    <inertial>
      <origin
        xyz="0.0387318021266272 9.93862991904848E-10 0.0186729914290569"
        rpy="0 0 0" />
      <mass
        value="0.0388470606970297" />
      <inertia
        ixx="3.84415401429286E-05"
        ixy="1.13898265700283E-11"
        ixz="1.57377386004549E-05"
        iyy="5.58653801708281E-05"
        iyz="1.29389968626878E-11"
        izz="4.79748038127971E-05" />
    </inertial>
    <visual>
      <origin
        xyz="0 0 0"
        rpy="0 0 0" />
      <geometry>
        <mesh
          filename="package://miracle/meshes/right_arm_link7.STL" />
      </geometry>
      <material
        name="">
        <color
          rgba="1 1 1 1" />
      </material>
    </visual>
    <collision>
      <origin
        xyz="0 0 0"
        rpy="0 0 0" />
      <geometry>
        <mesh
          filename="package://miracle/meshes/right_arm_link7.STL" />
      </geometry>
    </collision>
  </link>
  <joint
    name="right_arm_joint7"
    type="revolute">
    <origin
      xyz="0 0.0345 0.035"
      rpy="1.5708 -0.0025299 0" />
    <parent
      link="right_arm_link6" />
    <child
      link="right_arm_link7" />
    <axis
      xyz="0 0 1" />
    <limit
      lower="-1.57"
      upper="1.57"
      effort="0"
      velocity="0" />
  </joint>
  <link
    name="right_hand_mount_link">
    <inertial>
      <origin
        xyz="-0.920741291190911 -1.18645251922474 -1.08902145907687"
        rpy="0 0 0" />
      <mass
        value="0" />
      <inertia
        ixx="0"
        ixy="0"
        ixz="0"
        iyy="0"
        iyz="0"
        izz="0" />
    </inertial>
    <visual>
      <origin
        xyz="0 0 0"
        rpy="0 0 0" />
      <geometry>
        <mesh
          filename="package://miracle/meshes/right_hand_mount_link.STL" />
      </geometry>
      <material
        name="">
        <color
          rgba="1 1 1 1" />
      </material>
    </visual>
    <collision>
      <origin
        xyz="0 0 0"
        rpy="0 0 0" />
      <geometry>
        <mesh
          filename="package://miracle/meshes/right_hand_mount_link.STL" />
      </geometry>
    </collision>
  </link>
  <joint
    name="right_hand_mount_joint"
    type="fixed">
    <origin
      xyz="0.05 0 0.0335"
      rpy="0 1.5708 0" />
    <parent
      link="right_arm_link7" />
    <child
      link="right_hand_mount_link" />
    <axis
      xyz="0 0 0" />
  </joint>
</robot>
